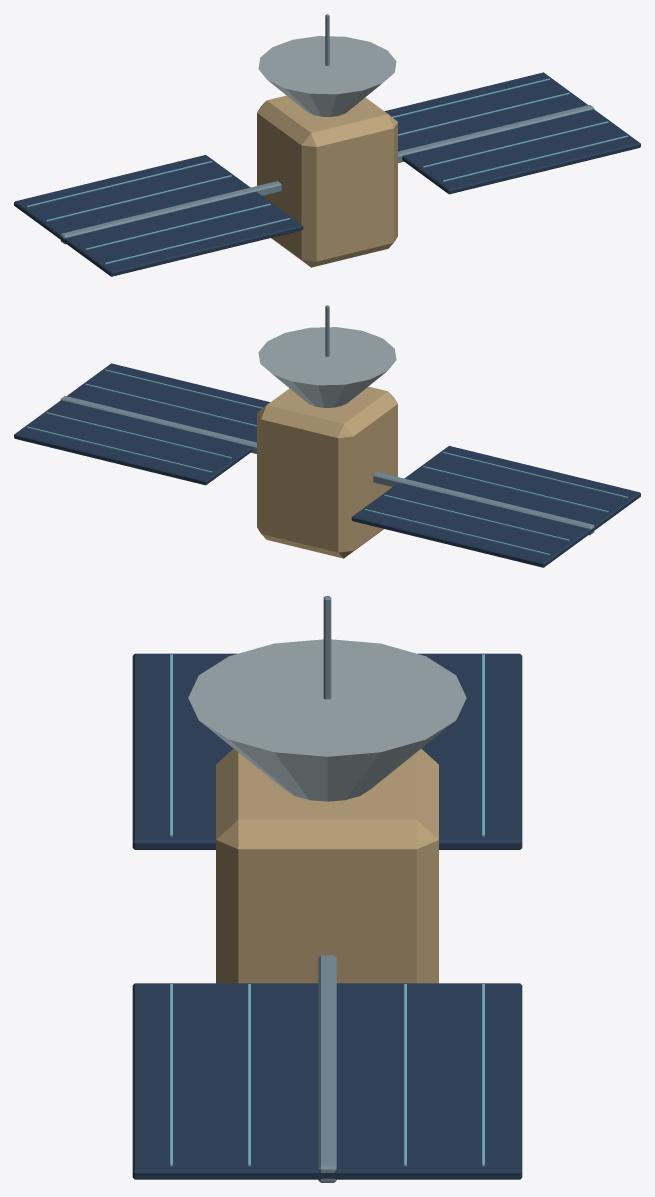
Rendered from space-satellite-comms.lod0.glb.
3 views of the same model, one above another, from view 1: azimuth 30°, elevation 25°; view 2: azimuth 150°, elevation 25°; view 3: azimuth 270°, elevation 25° (orthographic). The views are drawn at different scales.
Visible parts, largest first — view 1: space-satellite-comms__body, space-satellite-comms__solar_-1, space-satellite-comms__solar_1; view 2: space-satellite-comms__body, space-satellite-comms__solar_-1, space-satellite-comms__solar_1; view 3: space-satellite-comms__body, space-satellite-comms__solar_1, space-satellite-comms__solar_-1.
Boxes of the visible parts, box(x1,y1,x2,y2) form: space-satellite-comms__body: box(60, 14, 594, 267); space-satellite-comms__solar_-1: box(14, 155, 303, 276); space-satellite-comms__solar_1: box(384, 72, 640, 194); space-satellite-comms__body: box(60, 305, 594, 558); space-satellite-comms__solar_-1: box(351, 446, 640, 567); space-satellite-comms__solar_1: box(14, 363, 270, 485); space-satellite-comms__body: box(188, 596, 466, 1182); space-satellite-comms__solar_1: box(132, 983, 522, 1179); space-satellite-comms__solar_-1: box(132, 653, 522, 849).
Bounding box in the file's own units: 6.6 × 2.7 × 2.1.
